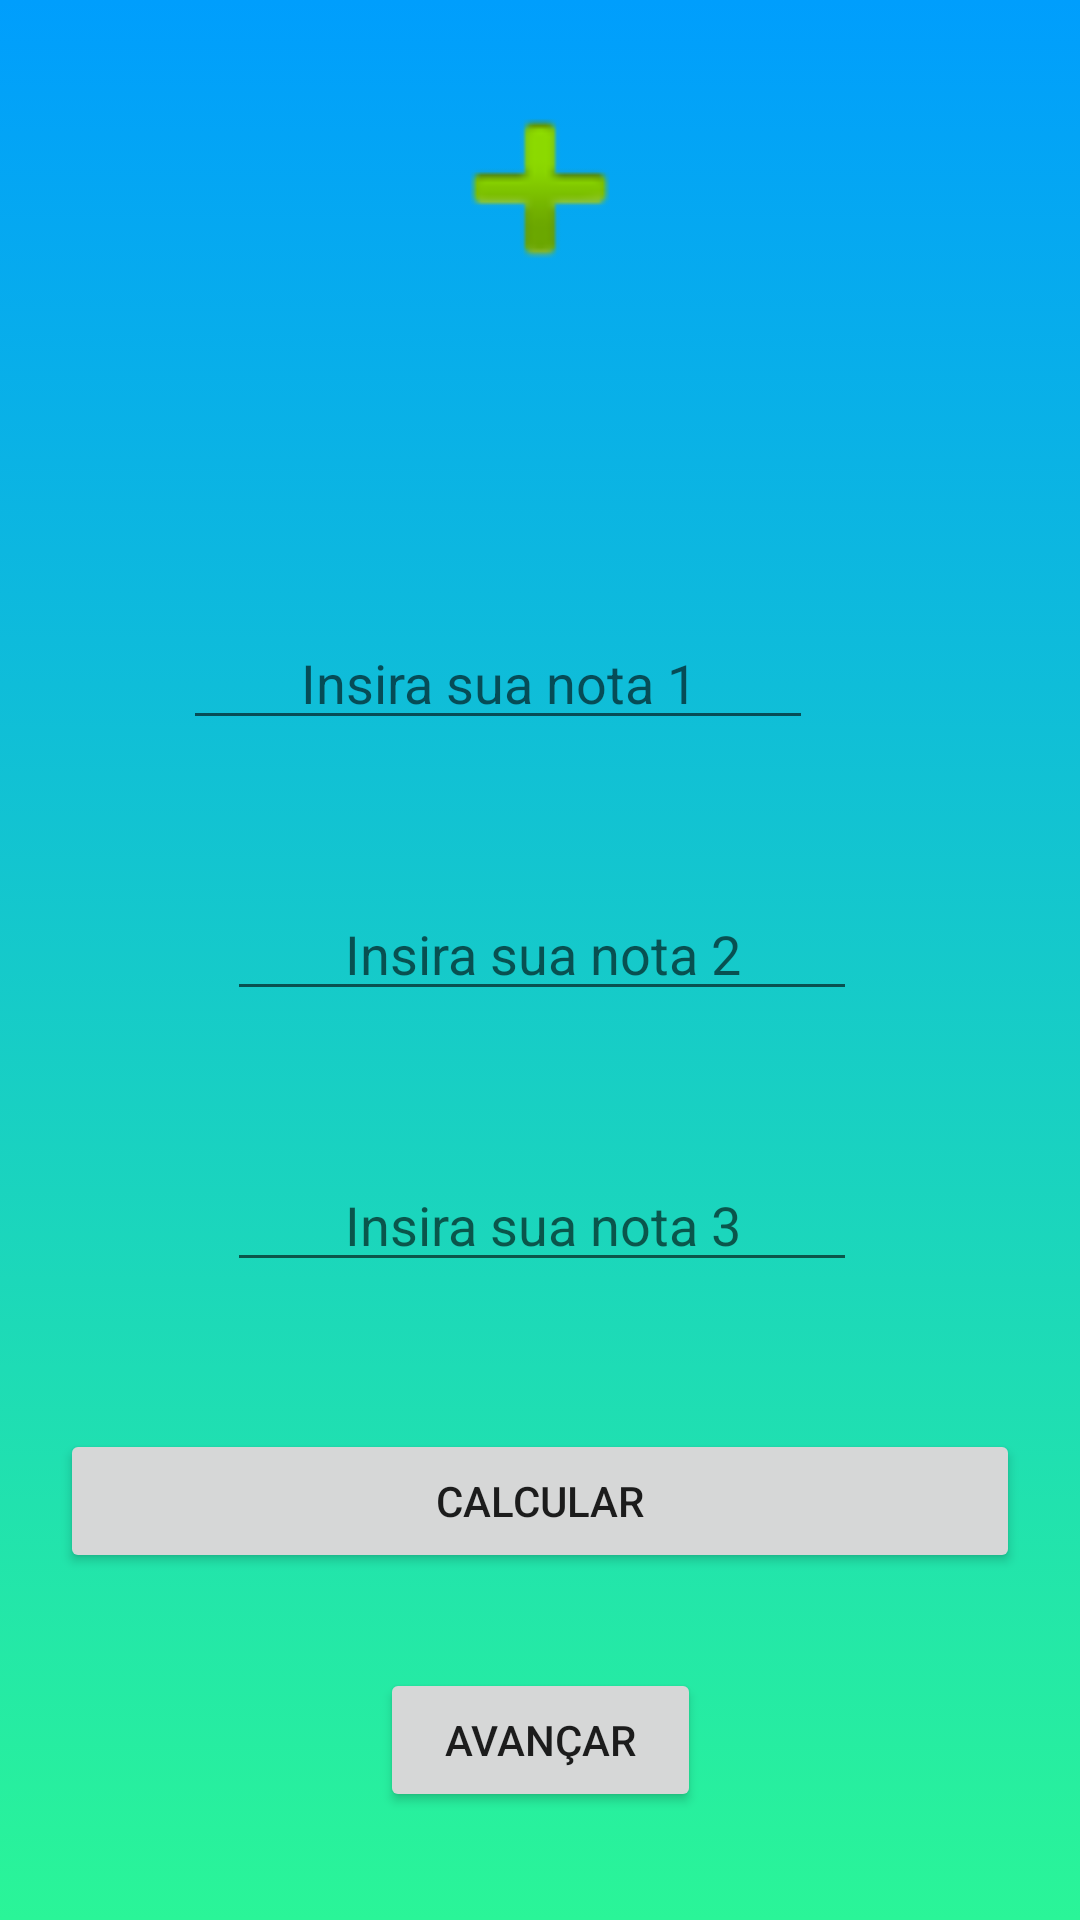

Locate icon controls on the screen. Image size 1080w x 1920h, boxes as (x1, y1, x2, y2).
add: (471, 120, 609, 257)
